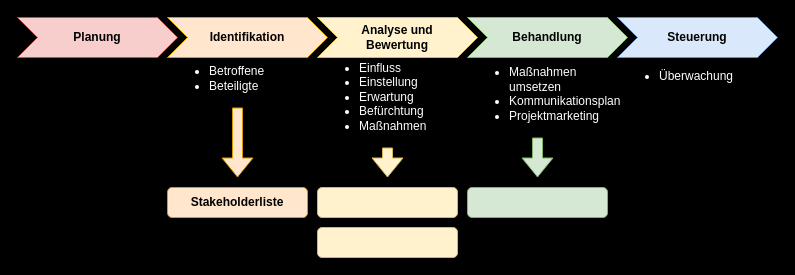
The diagram is 795 pixels wide and 275 high, and some of its shapes have lost their labels. The centre of each missing label's shape, as x and y in pixels:
"Kommunikationsplan" goes at pixel 537 202.
"Kraftfeldanalyse" goes at pixel 387 242.
"Stakeholderregister" goes at pixel 387 202.
